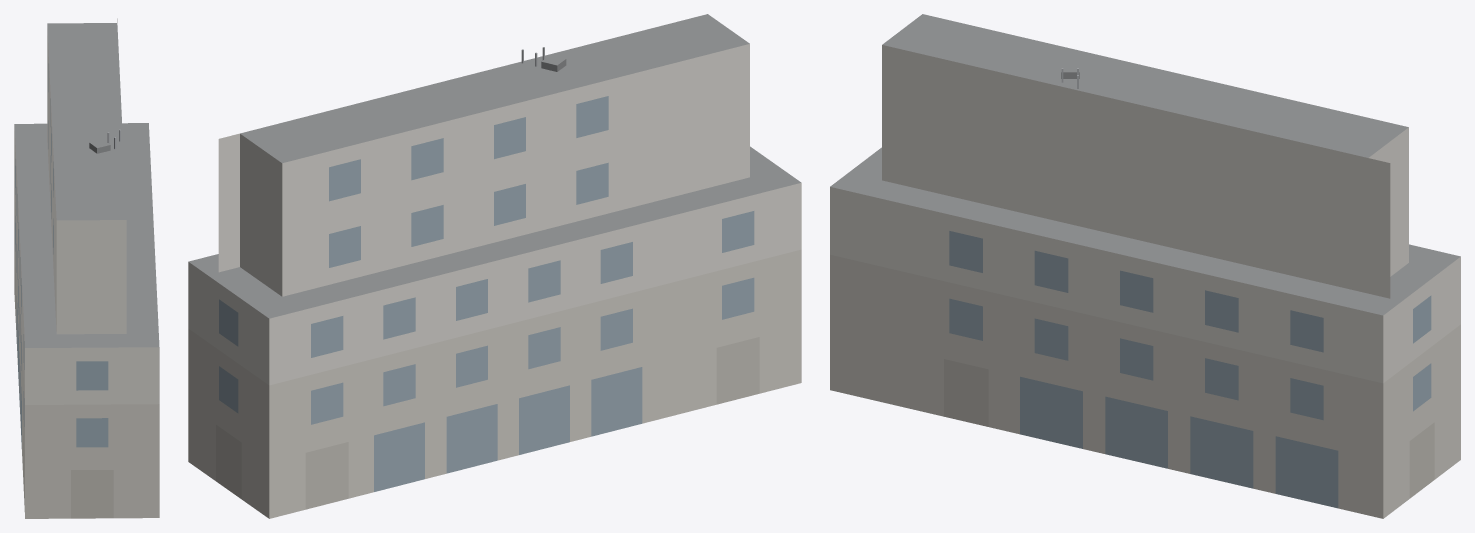
File: doitt-498980__lod_1.glb
3 renders of one model, left to right at view 1: azimuth 30°, elevation 25°; view 2: azimuth 150°, elevation 25°; view 3: azimuth 270°, elevation 25°, orthographic. The views are drawn at different scales.
Bounding box in the file's own units: 20.93 × 18.3 × 29.7.
